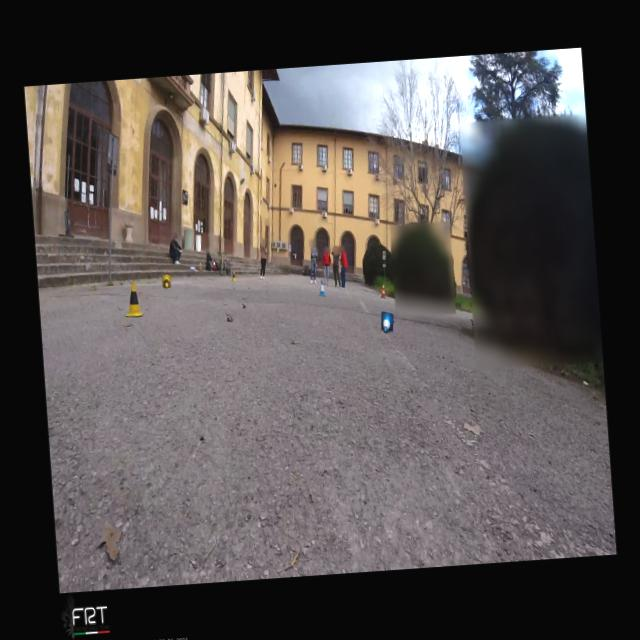blue_cone: (381, 311, 394, 332), (318, 282, 326, 296), (318, 280, 323, 290)
large_orange_cone: (379, 284, 385, 298)
yellow_cone: (122, 281, 144, 317), (162, 274, 171, 288), (230, 270, 236, 282)
